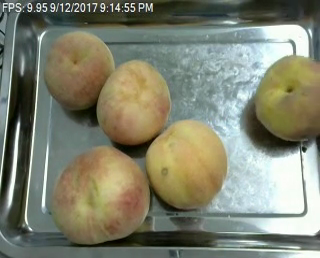Peach: (51, 146, 149, 244), (145, 119, 228, 209), (96, 60, 172, 145), (42, 30, 115, 111), (254, 55, 319, 143)
